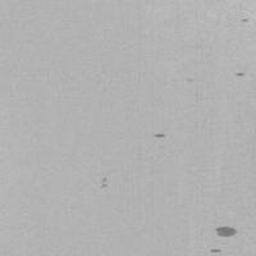Inclusion: (216, 226, 237, 237)
